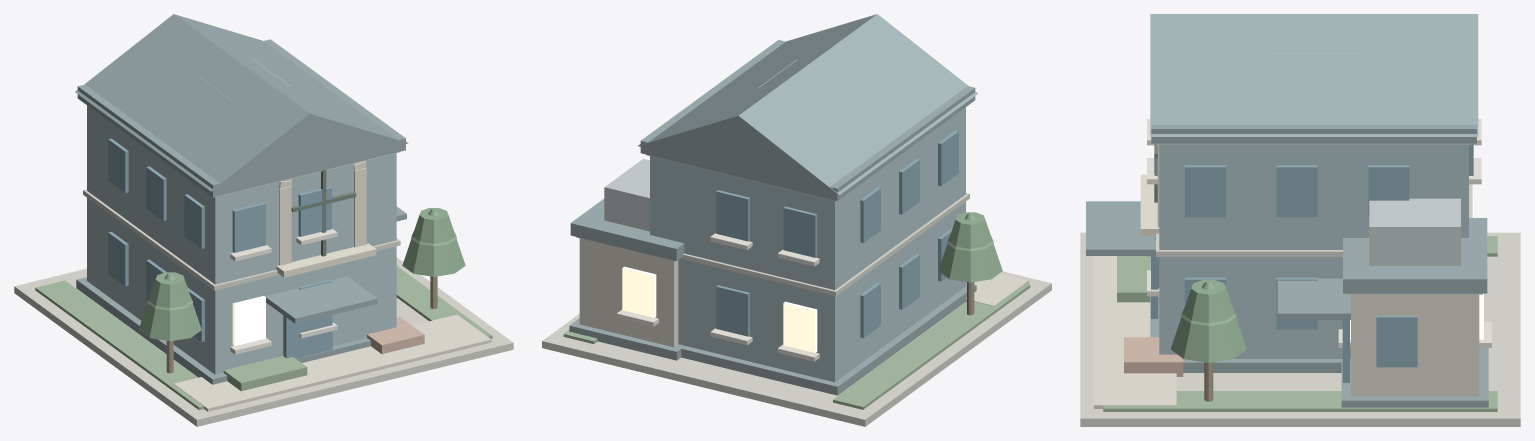
Rendered from remaster_house_15.glb.
The picture shows the model from 3 angles, left to right: view 1: azimuth 30°, elevation 25°; view 2: azimuth 150°, elevation 25°; view 3: azimuth 270°, elevation 25°; orthographic projection. The views are drawn at different scales.
Visible parts, largest first — view 1: remaster_house_15 roof, remaster_house_15 blue, remaster_house_15 stone, remaster_house_15 glass, remaster_house_15 green, remaster_house_15 cream, remaster_house_15 leaf, remaster_house_15 warm, remaster_house_15 white, Window sill.110, remaster_house_15 brick, Arched window pier L.002 (+2 smaller); view 2: remaster_house_15 roof, remaster_house_15 blue, remaster_house_15 stone, remaster_house_15 glass, remaster_house_15 cream, remaster_house_15 green, remaster_house_15 leaf, remaster_house_15 warm, remaster_house_15 metal, remaster_house_15 white; view 3: remaster_house_15 roof, remaster_house_15 blue, remaster_house_15 stone, remaster_house_15 cream, remaster_house_15 glass, remaster_house_15 green, remaster_house_15 metal, remaster_house_15 leaf, remaster_house_15 brick, remaster_house_15 white, Window sill.110.
Boxes of the visible parts, x1,y1,x2,y2 form: remaster_house_15 roof: (75, 14, 408, 384); remaster_house_15 blue: (87, 105, 396, 374); remaster_house_15 stone: (14, 151, 513, 426); remaster_house_15 glass: (108, 138, 332, 358); remaster_house_15 green: (35, 266, 492, 410); remaster_house_15 cream: (174, 314, 491, 411); remaster_house_15 leaf: (138, 208, 465, 341); remaster_house_15 warm: (232, 296, 265, 346); remaster_house_15 white: (230, 228, 337, 354); Window sill.110: (276, 243, 376, 277); remaster_house_15 brick: (367, 316, 424, 353); Arched window pier L.002: (279, 186, 291, 265); remaster_house_15 roof: (569, 14, 977, 395); remaster_house_15 blue: (650, 107, 965, 382); remaster_house_15 stone: (542, 154, 1051, 426); remaster_house_15 glass: (716, 130, 958, 338); remaster_house_15 cream: (579, 238, 1029, 347); remaster_house_15 green: (563, 282, 1030, 409); remaster_house_15 leaf: (938, 212, 1002, 282); remaster_house_15 warm: (622, 266, 817, 352); remaster_house_15 metal: (604, 59, 857, 231); remaster_house_15 white: (616, 233, 819, 361); remaster_house_15 roof: (1086, 14, 1488, 407); remaster_house_15 blue: (1159, 144, 1468, 358); remaster_house_15 stone: (1080, 143, 1520, 426); remaster_house_15 cream: (1094, 256, 1479, 408); remaster_house_15 glass: (1151, 143, 1473, 382); remaster_house_15 green: (1103, 236, 1497, 411); remaster_house_15 metal: (1268, 50, 1460, 265); remaster_house_15 leaf: (1170, 280, 1246, 362); remaster_house_15 brick: (1124, 337, 1183, 376); remaster_house_15 white: (1147, 119, 1491, 347); Window sill.110: (1140, 174, 1159, 236).
Size of the model in its own units: 9.64 by 7.46 by 9.6.
